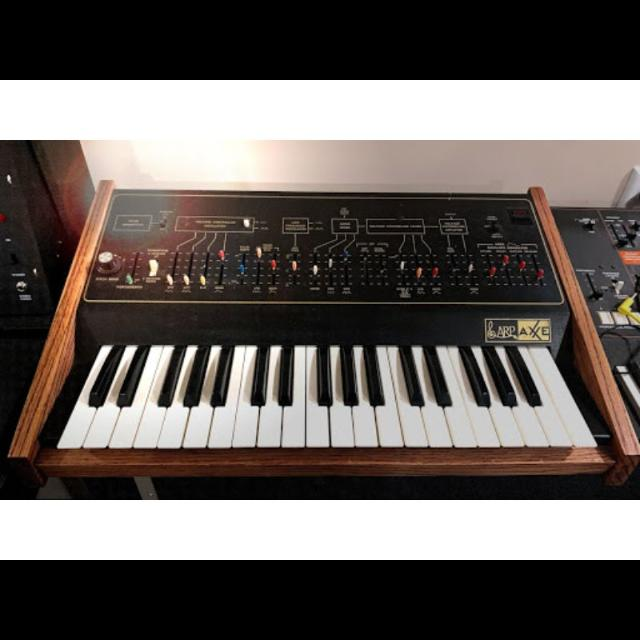Electronic-Keyboard: (14, 168, 604, 487)
